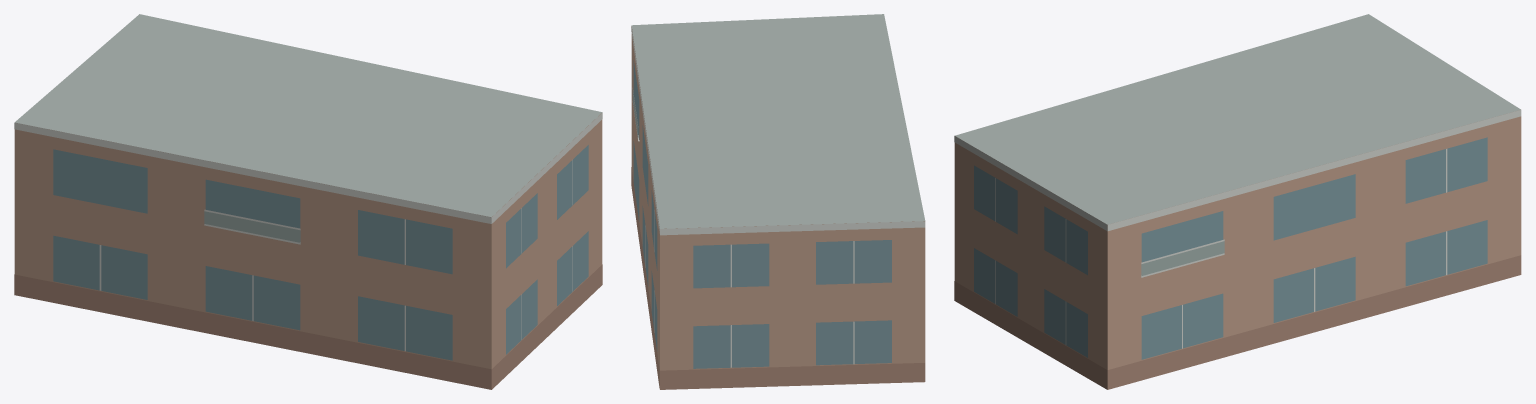
The model's file is survey-upis-32907663.glb.
The picture shows the model from 3 angles, left to right: view 1: azimuth 30°, elevation 25°; view 2: azimuth 150°, elevation 25°; view 3: azimuth 270°, elevation 25°; orthographic projection. The views are drawn at different scales.
Visible parts, largest first — view 1: survey-upis-32907663.tmp; view 2: survey-upis-32907663.tmp; view 3: survey-upis-32907663.tmp.
Boxes of the visible parts, x1,y1,x2,y2 form: survey-upis-32907663.tmp: (14, 14, 602, 389); survey-upis-32907663.tmp: (631, 14, 925, 389); survey-upis-32907663.tmp: (954, 14, 1521, 389).
Size of the model in its own units: 16.71 by 6.1 by 18.98.
